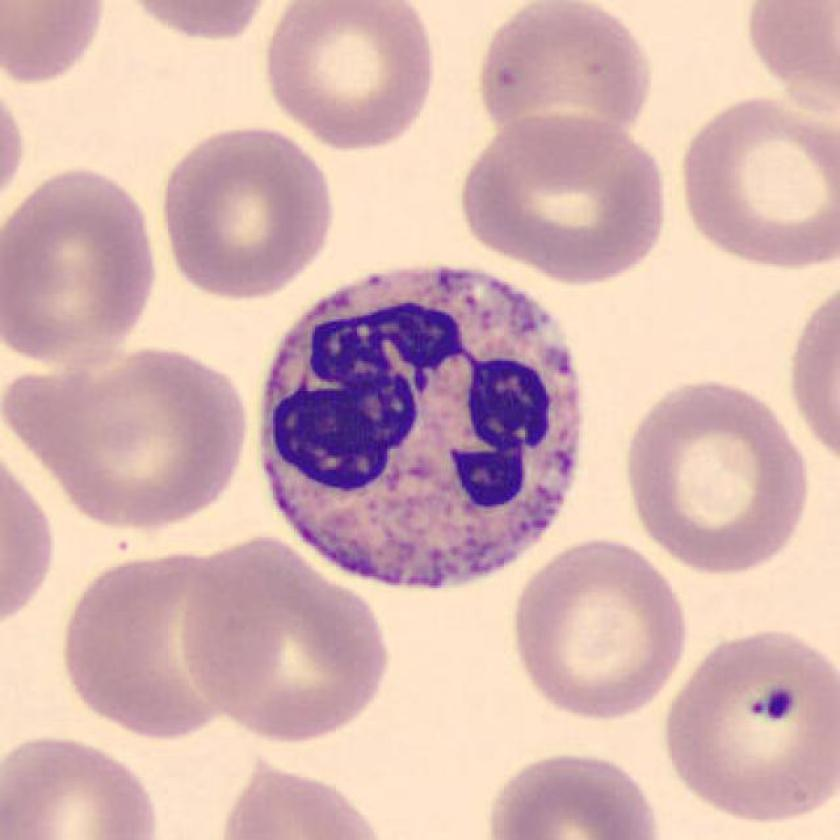neutrophil: (260, 269, 581, 586)
